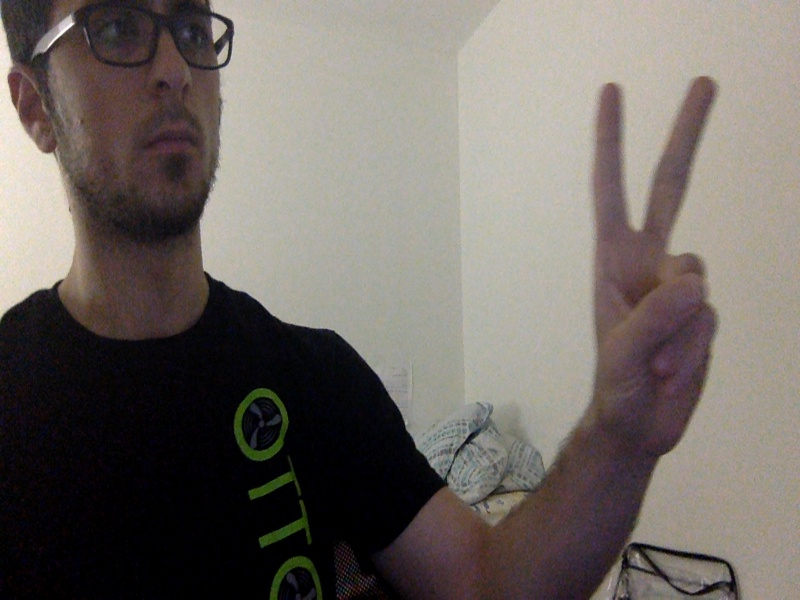2-hand: (590, 75, 723, 452)
